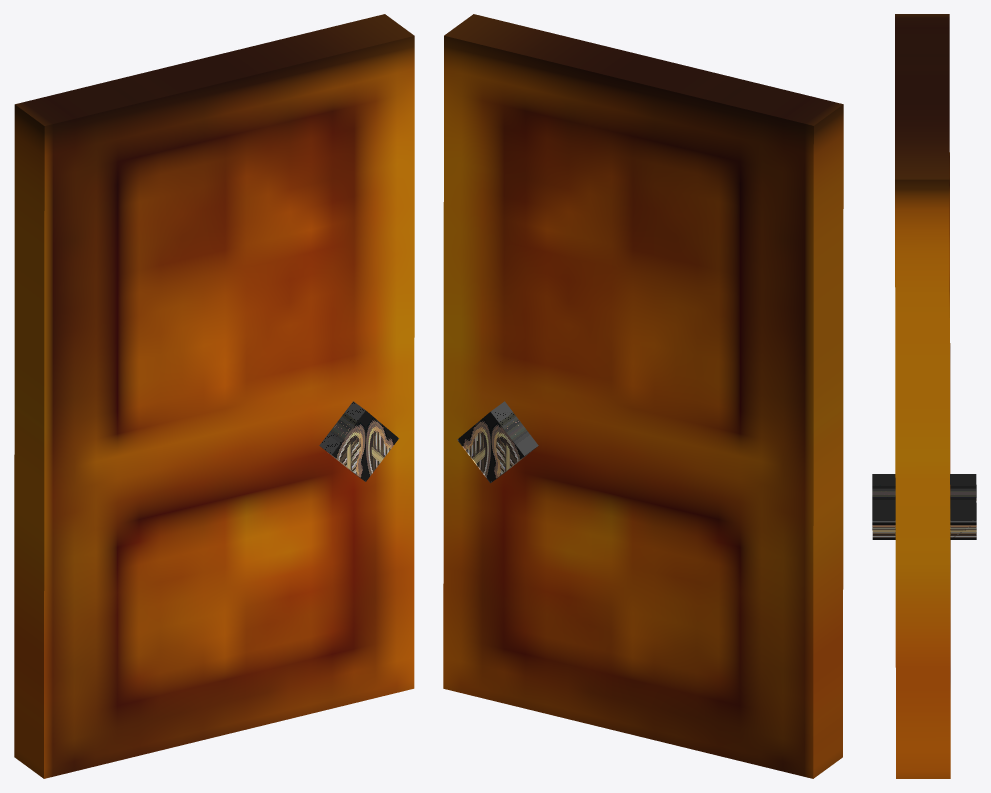
File: entrance door.obj
3 renders of one model, left to right at view 1: azimuth 30°, elevation 25°; view 2: azimuth 150°, elevation 25°; view 3: azimuth 270°, elevation 25°, orthographic. The views are drawn at different scales.
Parts seen in each view (by area): view 1: princess_peaches_castle_(outside); view 2: princess_peaches_castle_(outside); view 3: princess_peaches_castle_(outside).
Boxes of the visible parts, left/top/right/bottom form: princess_peaches_castle_(outside): left=14, top=14, right=414, bottom=778; princess_peaches_castle_(outside): left=443, top=14, right=843, bottom=778; princess_peaches_castle_(outside): left=872, top=14, right=976, bottom=778.
Bounding box in the file's own units: 0.1497 × 0.2525 × 0.0398.
